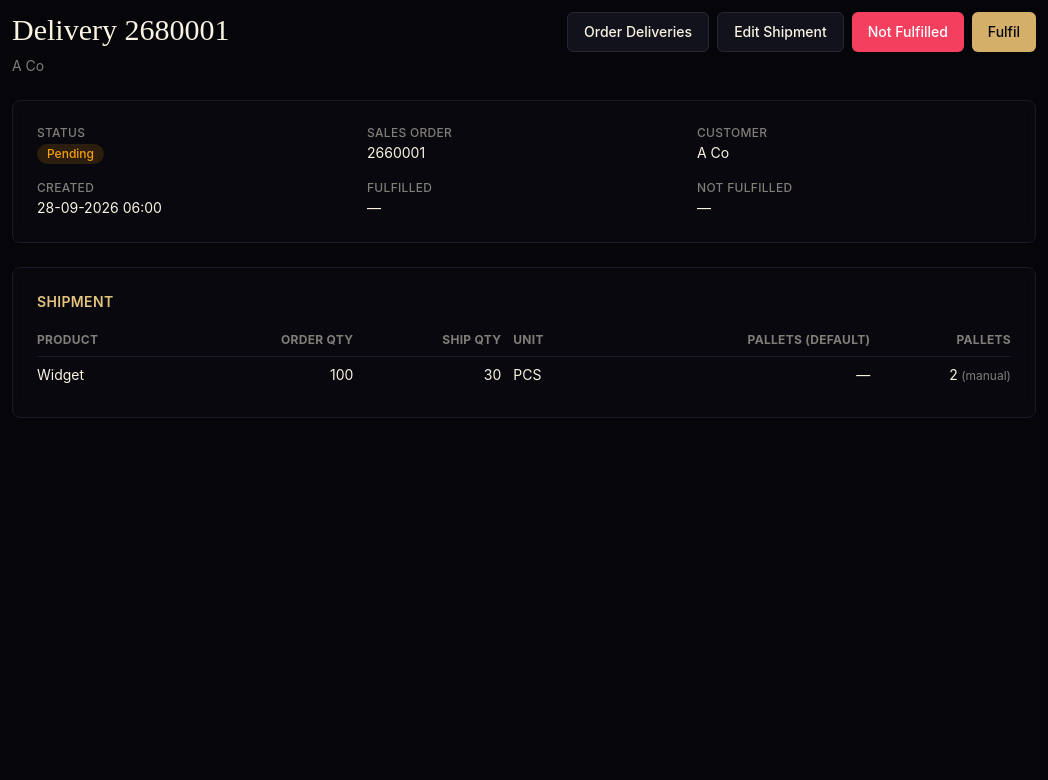
Delivery pages › sends only changed shipment fields and shows the server refusal
Click the button "Edit Shipment" at (780, 32), box [717,12,844,52]
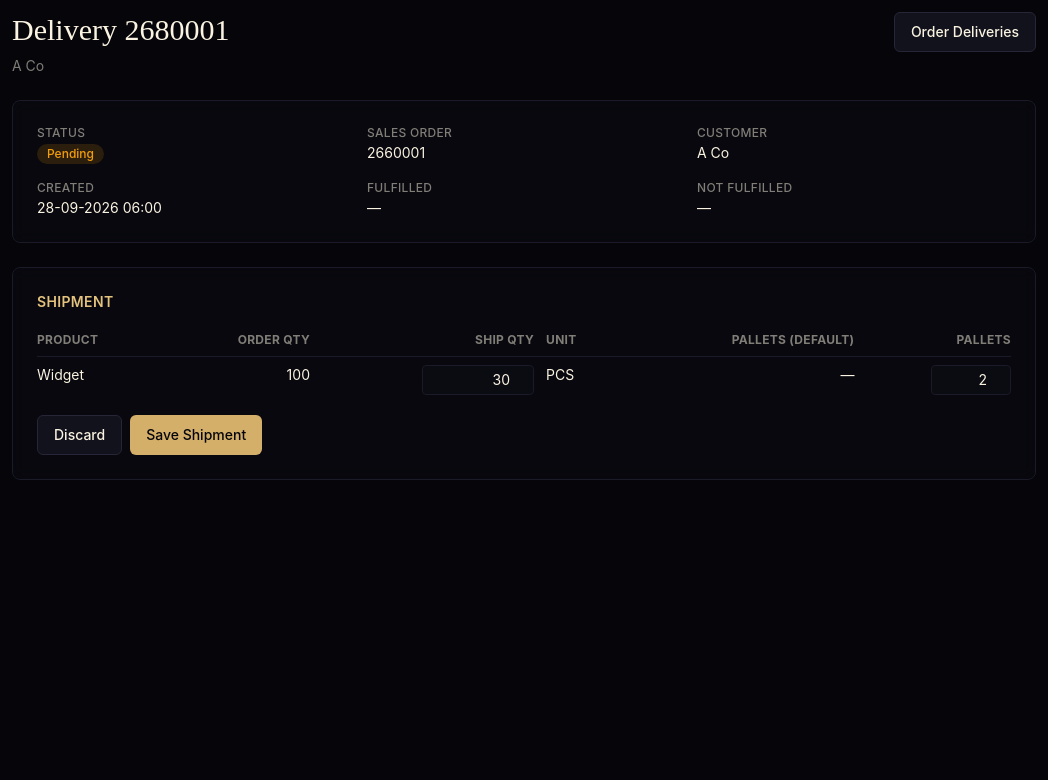
Replace the text in the number field named "Ship quantity: Widget" with "70" at (478, 380), box [422,365,534,395]
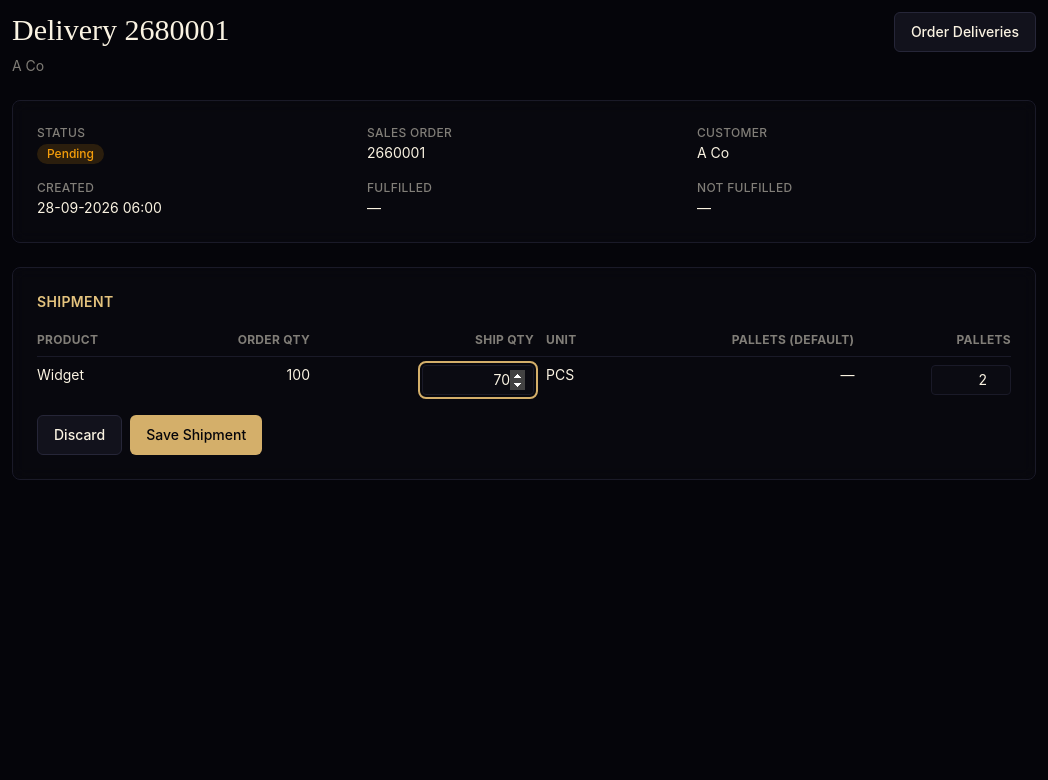
Click the button "Save Shipment" at (196, 435), box [130,415,262,455]
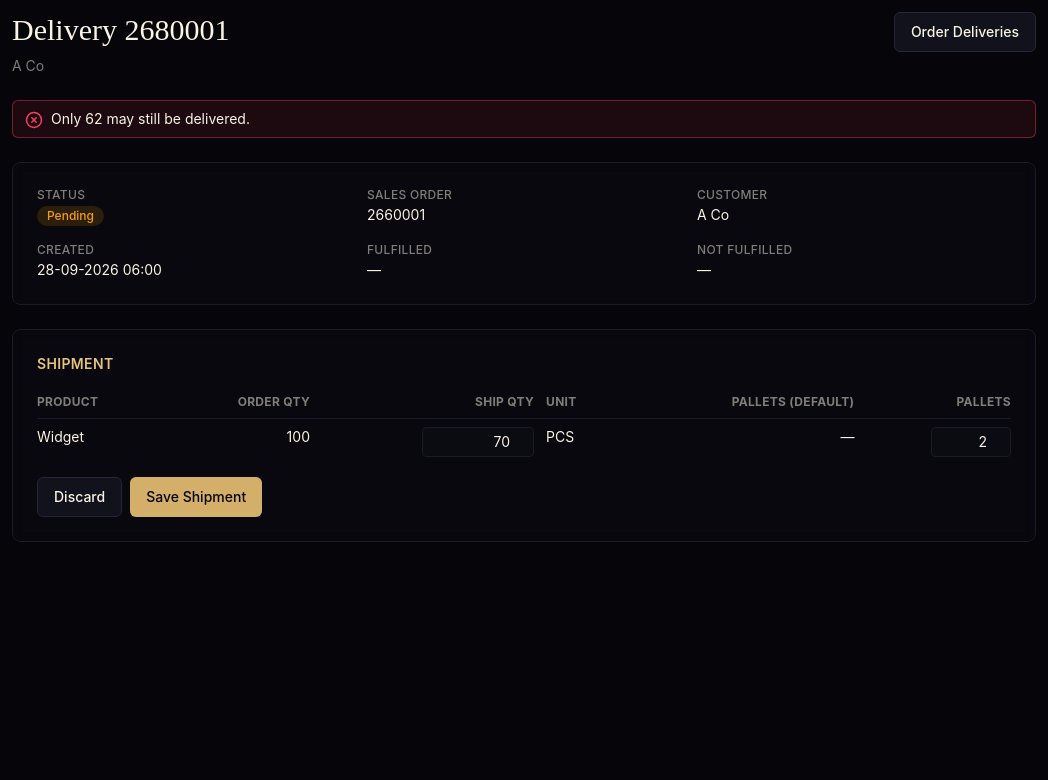
Check: the text "Only 62 may still be delivered." is shown, box [51,109,250,129]
